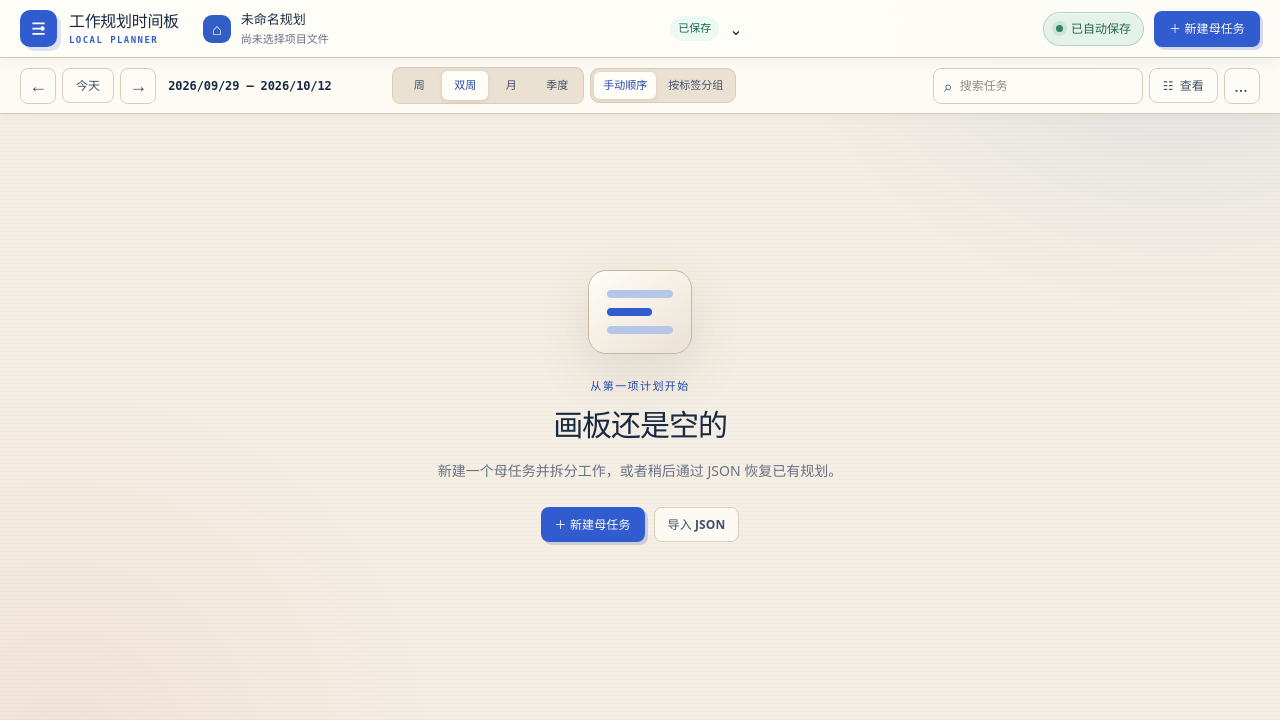
Scenario: App › starts empty and creates the first mother task
The width and height of the screenshot is (1280, 720).
Expected: the heading "画板还是空的" is shown, [553,402,727,447]
Click the button with aria-label "从空白画板新建母任务" at [593, 525], box [541,507,645,542]
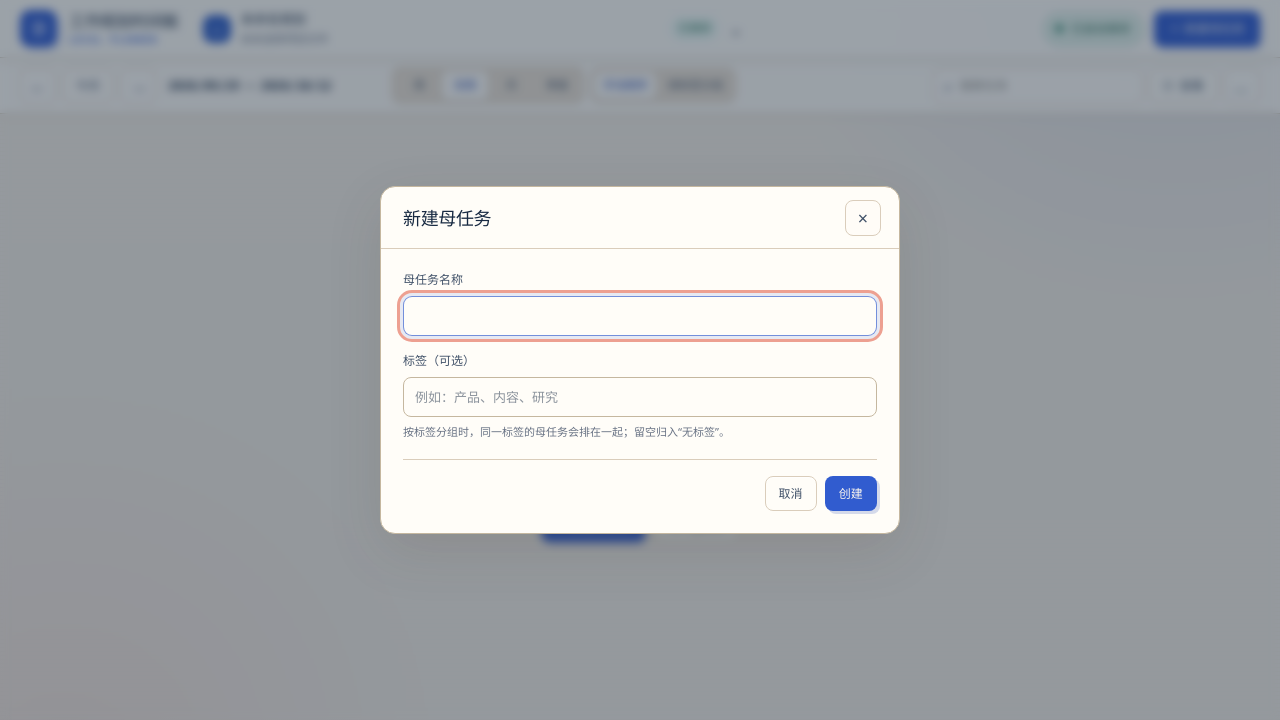
Type "产品发布" into the field labelled "母任务名称" at [640, 316], box [403,296,877,336]
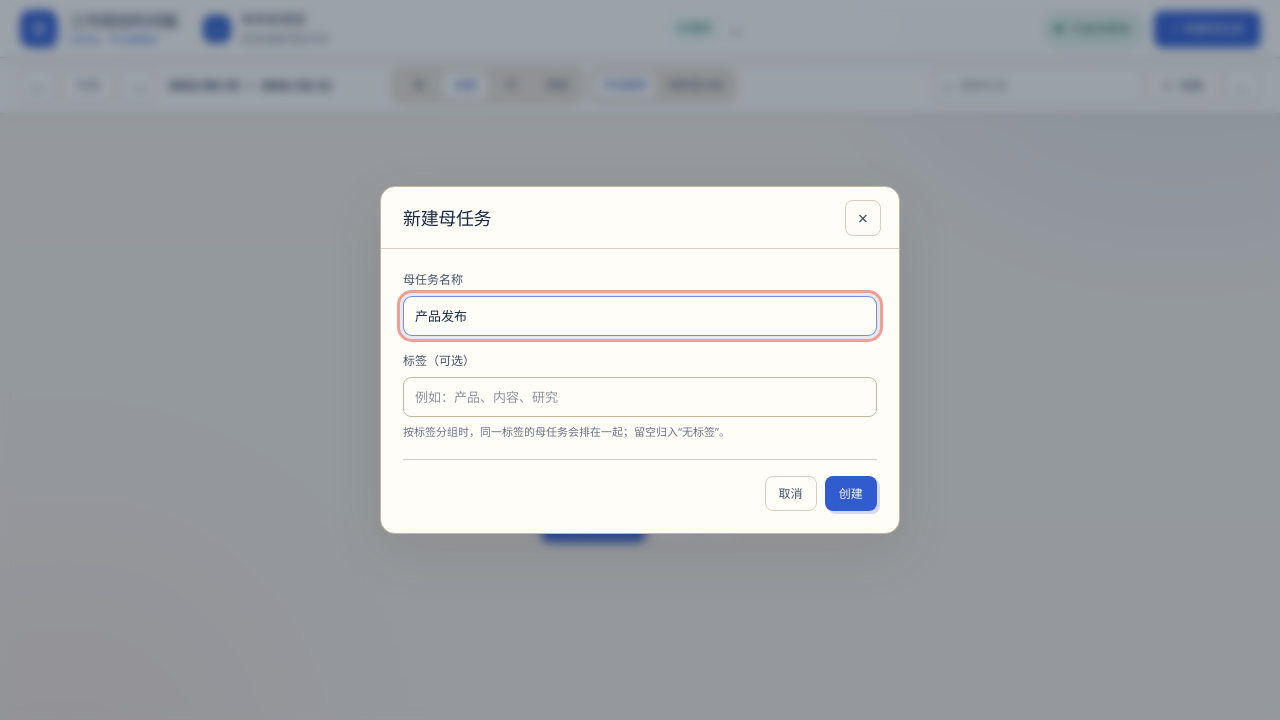
Click the button "创建" at [851, 494], box [825,476,877,511]
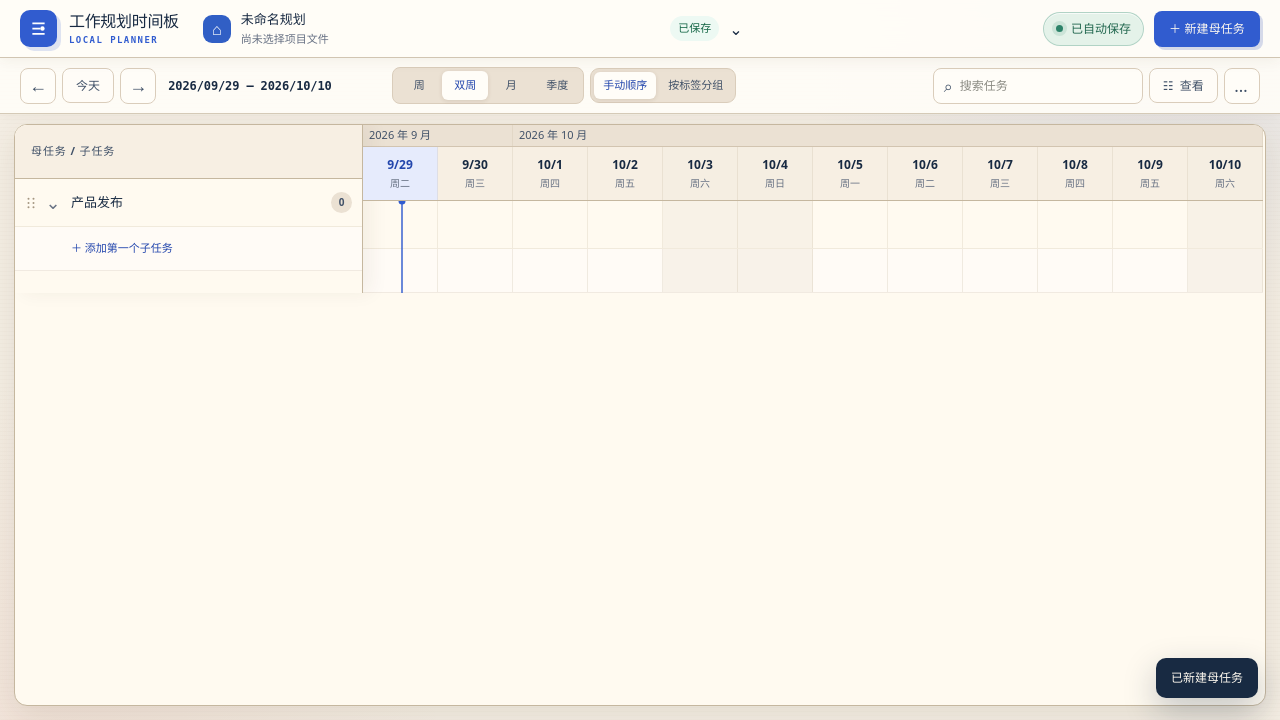
Result: the button "产品发布" is shown at [67,188,331,217]
